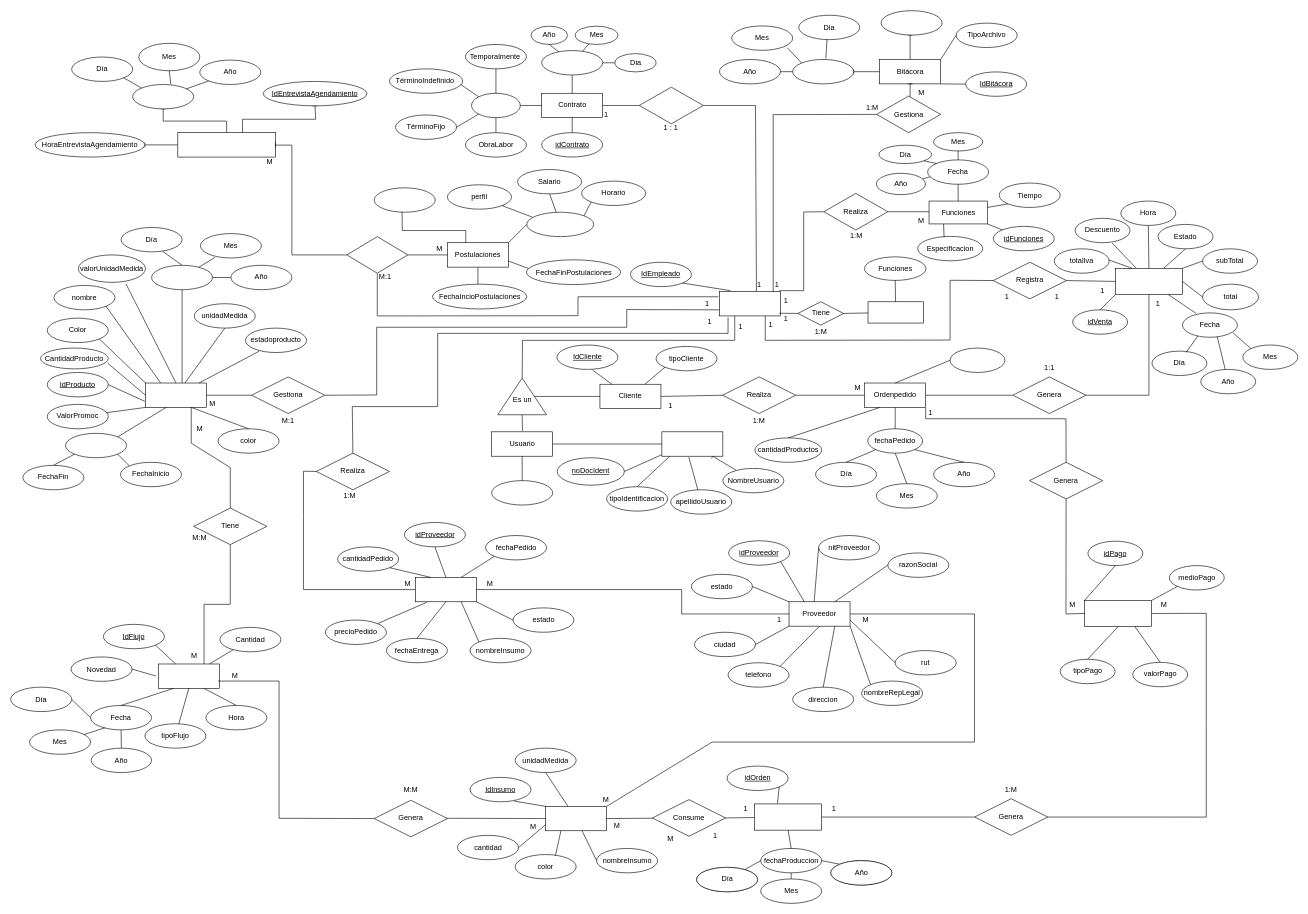
The diagram is 1308 pixels wide and 914 high, and some of its shapes have lost their labels. The centre of each missing label's shape, as x and y in pixels:
"ActividadBita" belongs at point (911, 22).
"Cargo" belongs at point (895, 312).
"Crea" belongs at point (377, 254).
"DescripciónOferta" belongs at point (560, 224).
"Empleado" belongs at point (749, 303).
"EntervistaAgendamiento" belongs at point (226, 144).
"FechaBitácora" belongs at point (823, 71).
"FechaContrato" belongs at point (572, 62).
"fechaFabricacion" belongs at point (182, 277).
"FechaFinal" belongs at point (163, 96).
"firma" belongs at point (671, 105).
"Flujo" belongs at point (188, 675).
"IdPedido" belongs at point (977, 359).
"IdPersona" belongs at point (522, 492).
"IdPostulacion" belongs at point (404, 199).
"Insumos" belongs at point (576, 818).
"OrdenProduccion" belongs at point (788, 816).
"Pagos" belongs at point (1118, 613).
"pedidoProveedor" belongs at point (445, 589).
"Persona" belongs at point (692, 443).
"Producto" belongs at point (175, 394).
"promocion" belongs at point (96, 445).
"Tipo" belongs at point (495, 105).
"Venta" belongs at point (1148, 281).
